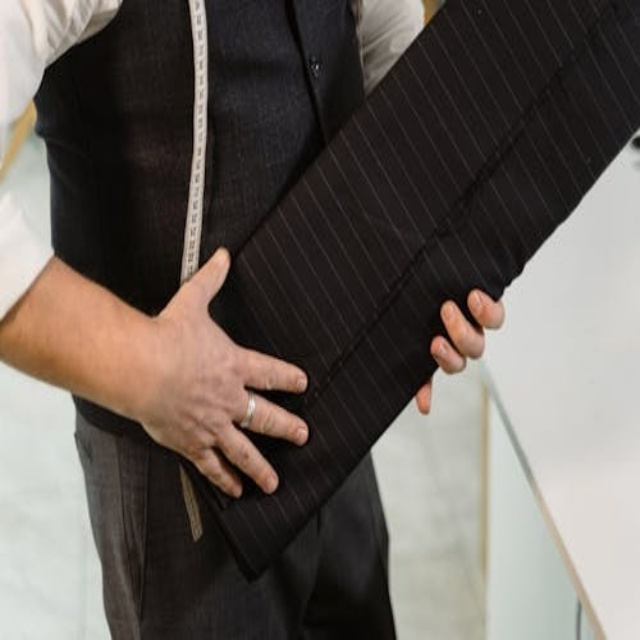Sin_guantes: (127, 245, 314, 498), (413, 280, 507, 418)
